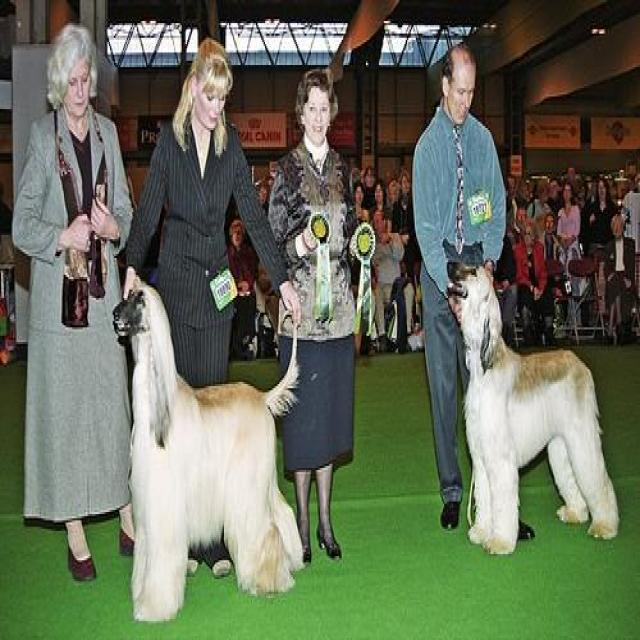afghan_hound: (113, 284, 304, 626), (446, 260, 618, 554)
